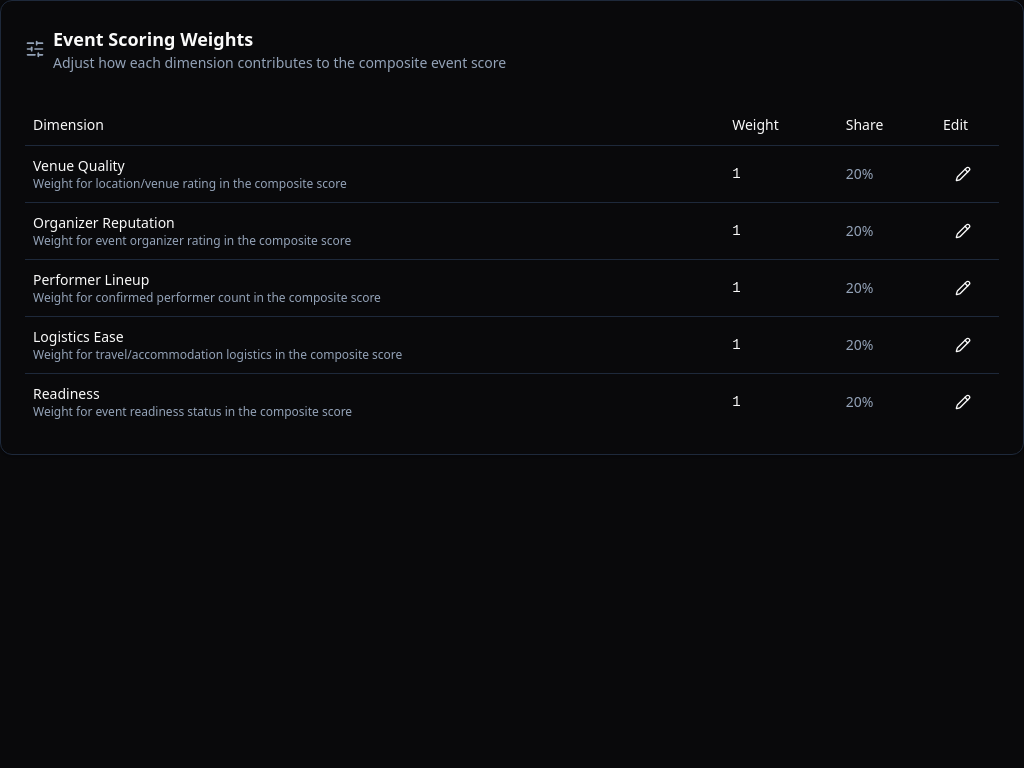
ScoringWeightsSection › shows validation error when weight exceeds max
Click the button without text in the row of "Venue Quality" at (963, 174), box [943,154,983,194]
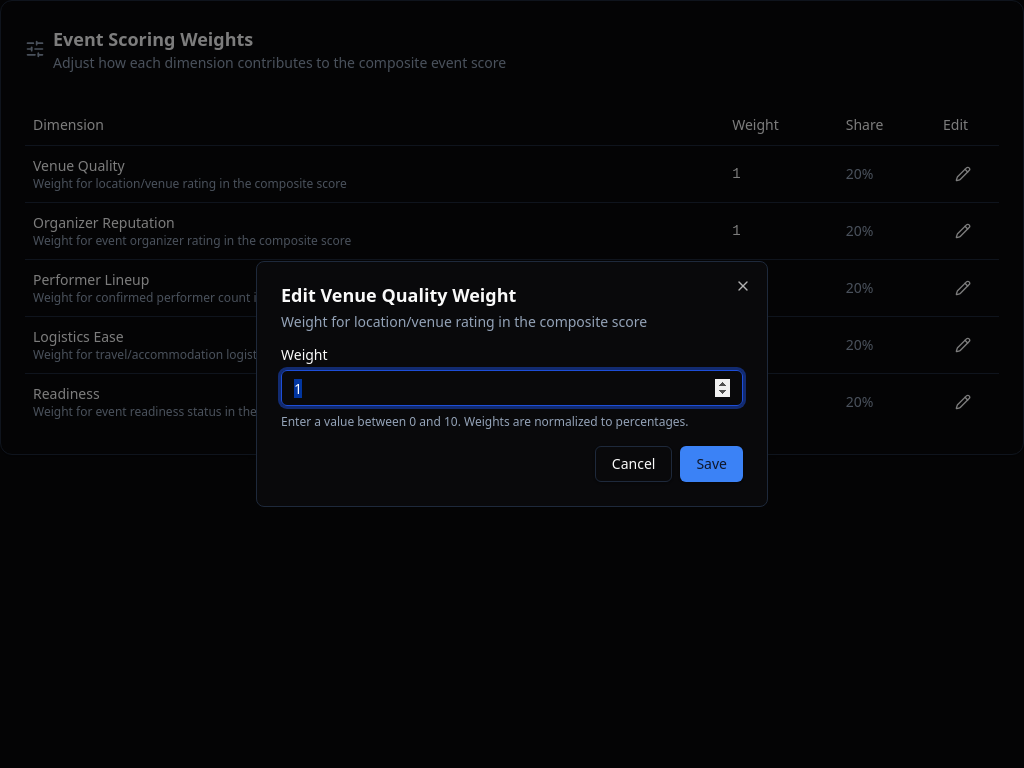
Replace the text in the number field labelled "Weight" with "15" at (512, 388), box [281,370,743,406]
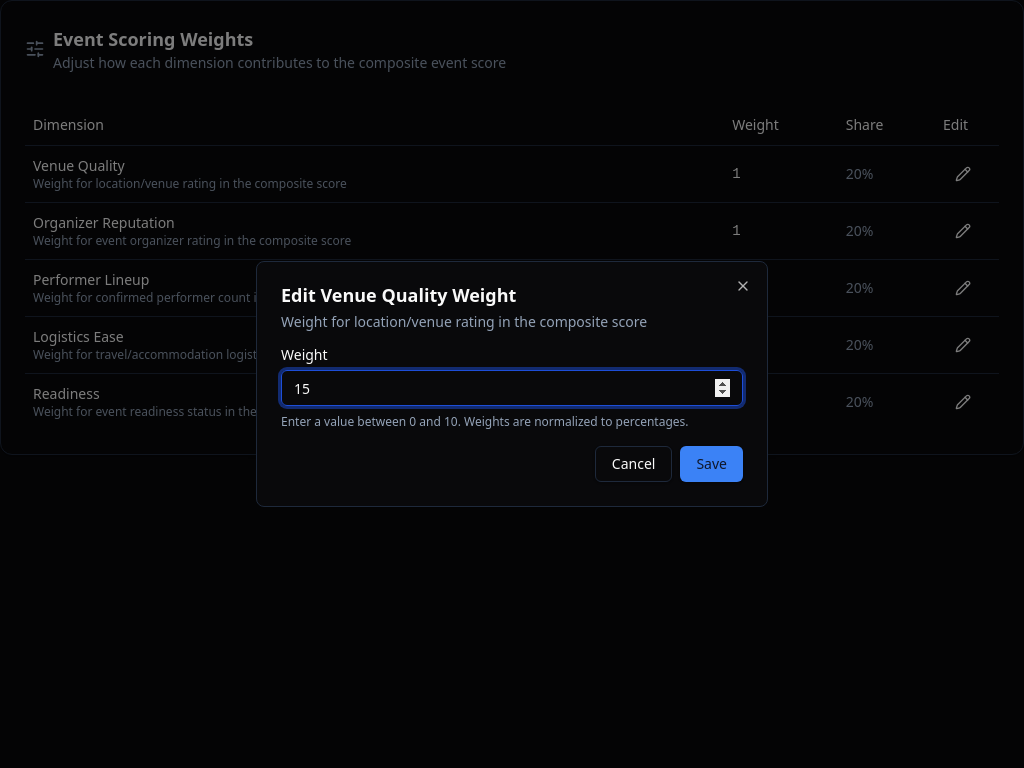
Click the button "Save" at (712, 464), box [680,446,743,482]
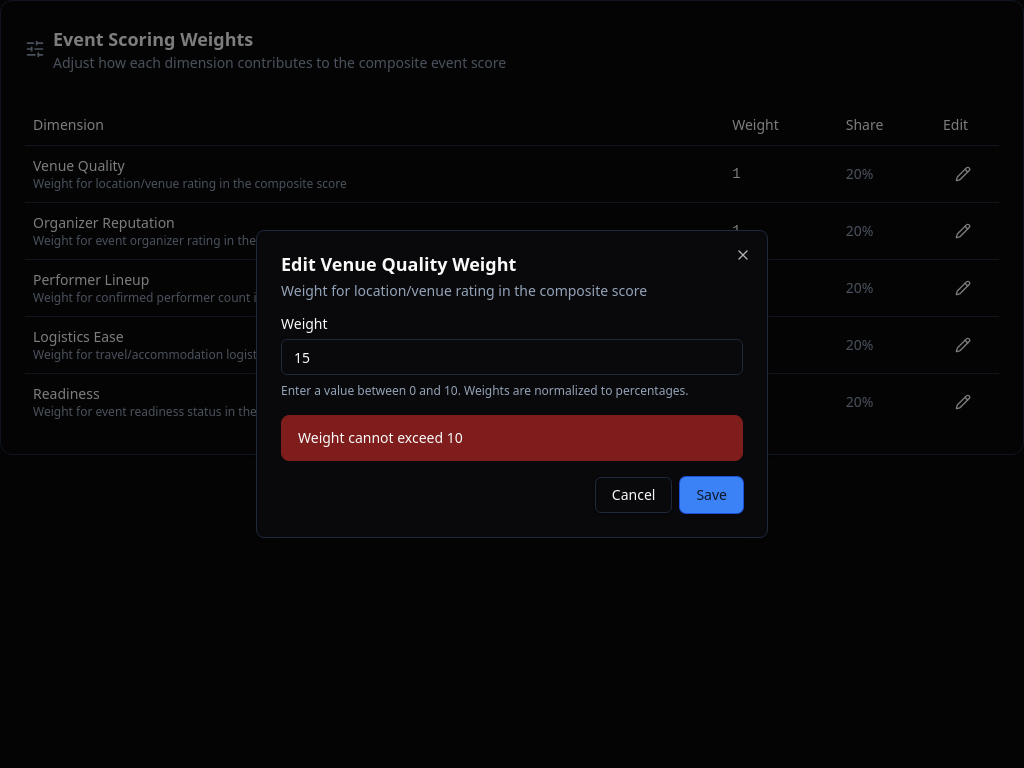
Expected: the text "Weight cannot exceed 10" is shown, [298,428,463,447]
